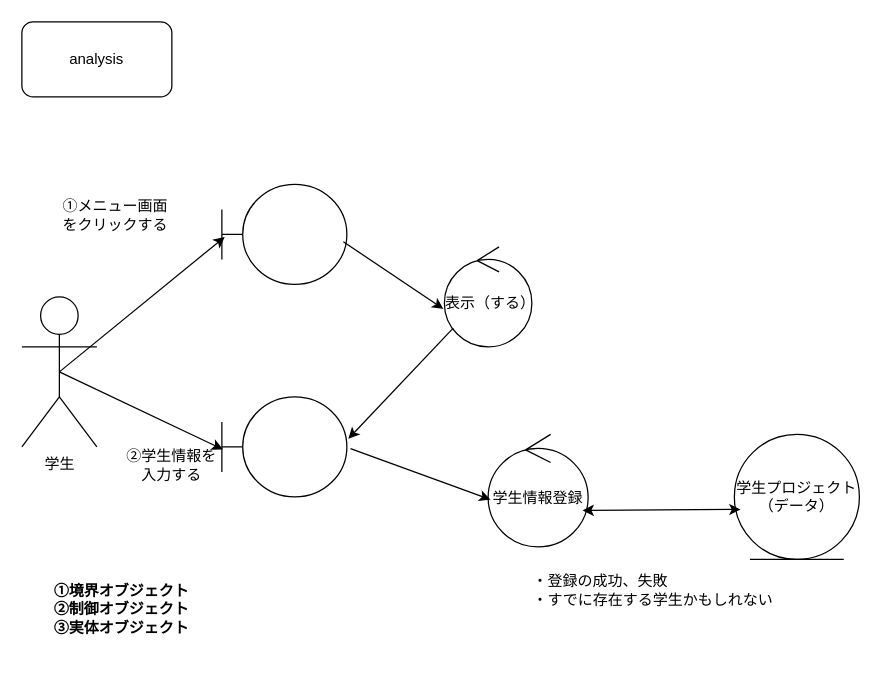
Some shapes in this 881 by 681 pixel diagram are drawn without their labels. Each missing label, with the centre of its shape:
"メニュー画面" belongs at point 284,233.
"学生登録画面" belongs at point 284,446.
